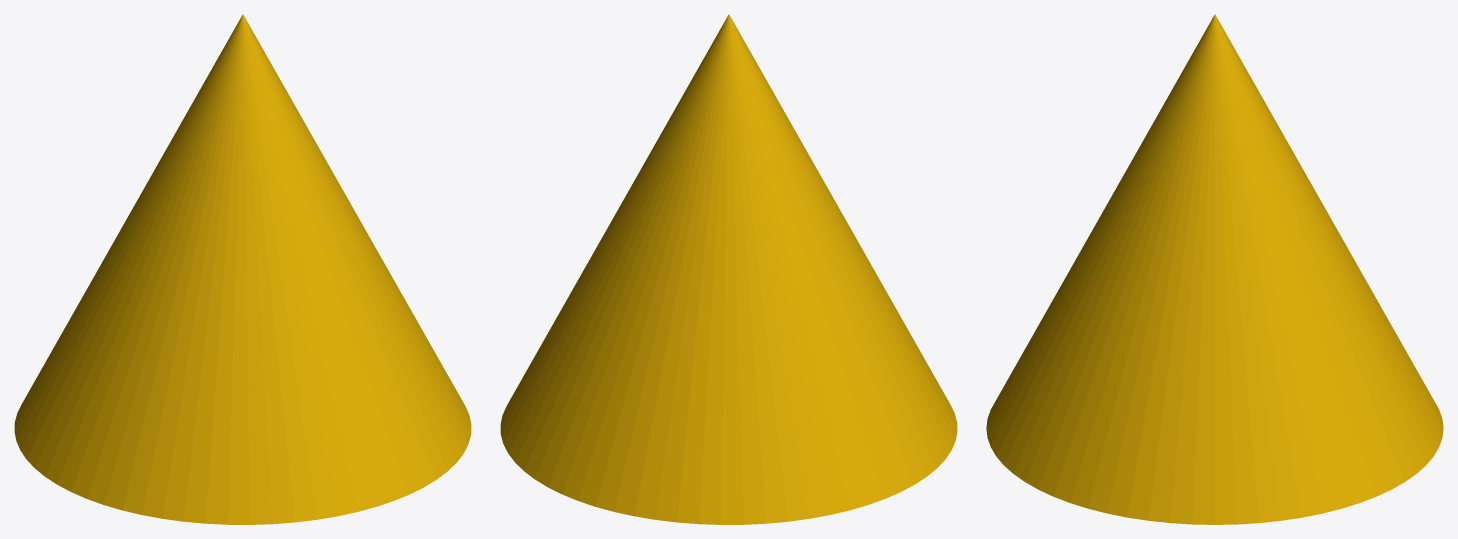
The picture shows the model from 3 angles, left to right: view 1: azimuth 30°, elevation 25°; view 2: azimuth 150°, elevation 25°; view 3: azimuth 270°, elevation 25°; orthographic projection.
Visible parts, largest first — view 1: 圓錐體; view 2: 圓錐體; view 3: 圓錐體.
Part boxes in pixels (<box>): 圓錐體: <box>14,14,471,524</box>; 圓錐體: <box>500,14,957,524</box>; 圓錐體: <box>986,14,1443,524</box>.
Bounding box in the file's own units: 2 × 2 × 2.
